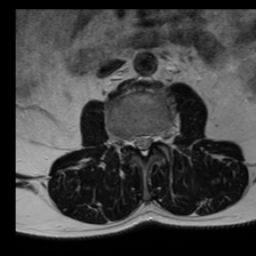CCS_normal: (139, 126, 145, 161)
LFS_normal: (152, 126, 159, 150)
LLS_normal: (145, 126, 152, 151)
RFS_normal: (123, 130, 131, 154)
RLS_normal: (131, 128, 139, 154)
